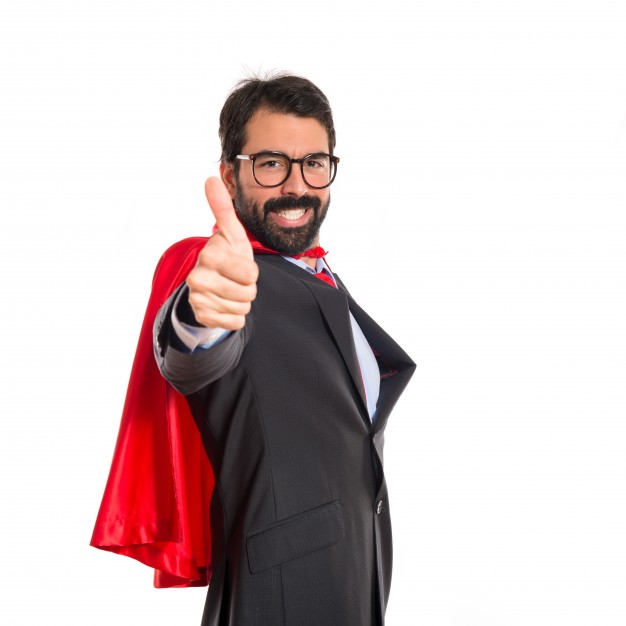thumbsup: (185, 176, 259, 330)
